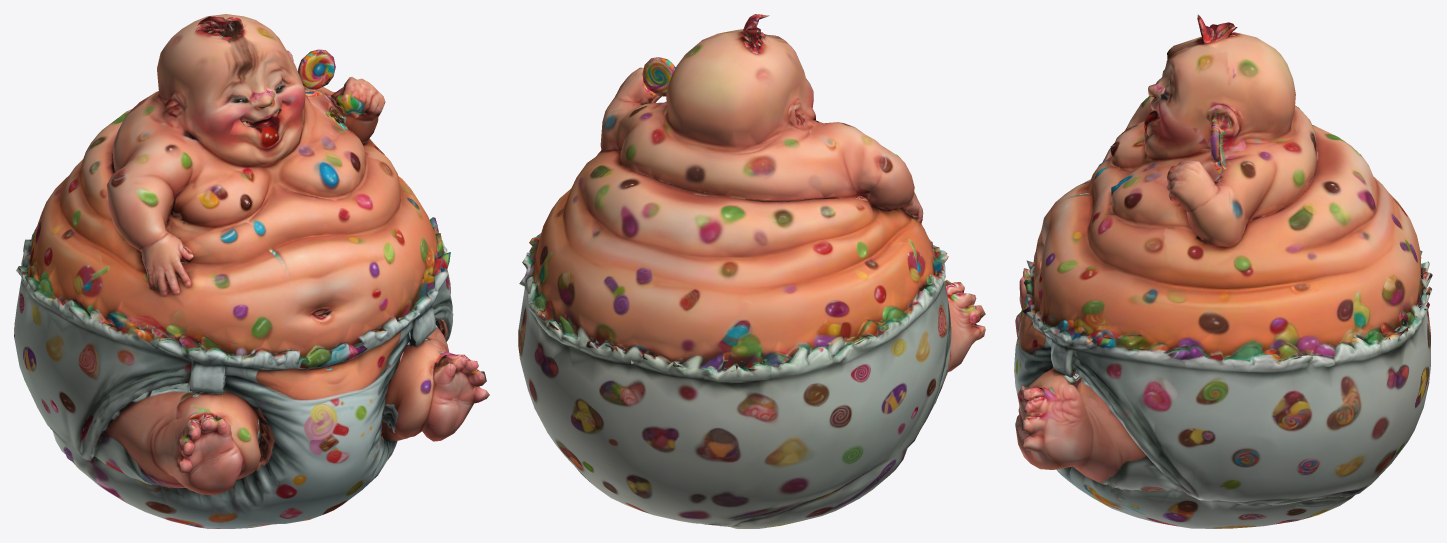
File: candy-latest.glb
3 views of the same model, side by side, from view 1: azimuth 30°, elevation 25°; view 2: azimuth 150°, elevation 25°; view 3: azimuth 270°, elevation 25° (orthographic).
Visible parts, largest first — view 1: Mesh1.0; view 2: Mesh1.0; view 3: Mesh1.0.
Boxes of the visible parts, <box> form: Mesh1.0: <box>14,14,489,528</box>; Mesh1.0: <box>518,14,985,528</box>; Mesh1.0: <box>1014,14,1432,528</box>.
Size of the model in its own units: 0.4895 by 0.6096 by 0.4807.
Materials: 1 (1 with a texture image).
